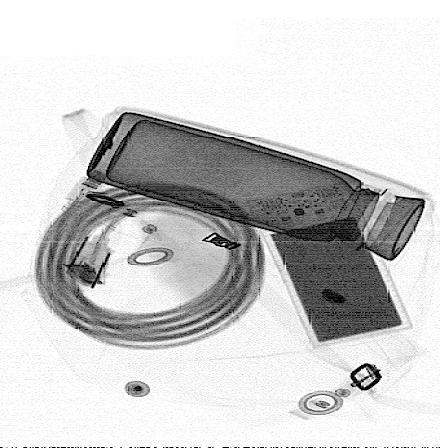Powerbank: (245, 180, 417, 350)
